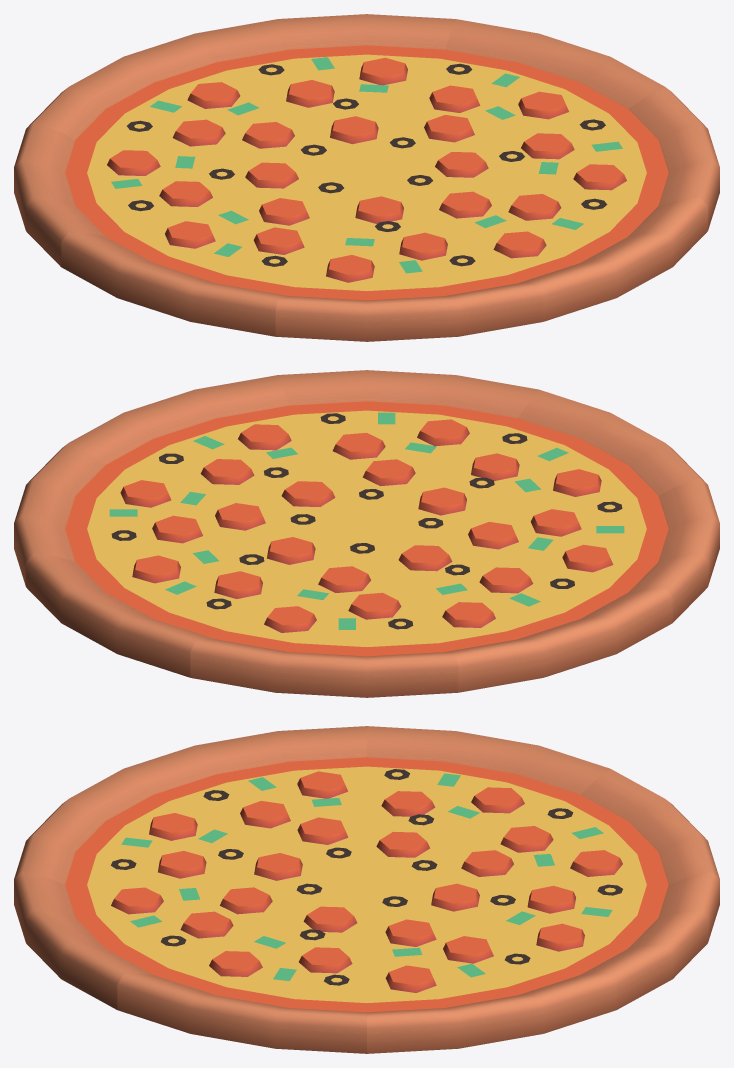
Rendered from k_pizza.glb.
3 renders of one model, top to bottom at view 1: azimuth 30°, elevation 25°; view 2: azimuth 150°, elevation 25°; view 3: azimuth 270°, elevation 25°, orthographic.
Visible parts, largest first — view 1: slice6; view 2: slice6; view 3: slice6.
Boxes of the visible parts, x1=… form: slice6: x1=14, y1=14, x2=719, y2=341; slice6: x1=14, y1=370, x2=719, y2=697; slice6: x1=14, y1=726, x2=719, y2=1053.
Size of the model in its own units: 0.8418 by 0.0435 by 0.8418.
1 material, 1 textured.
